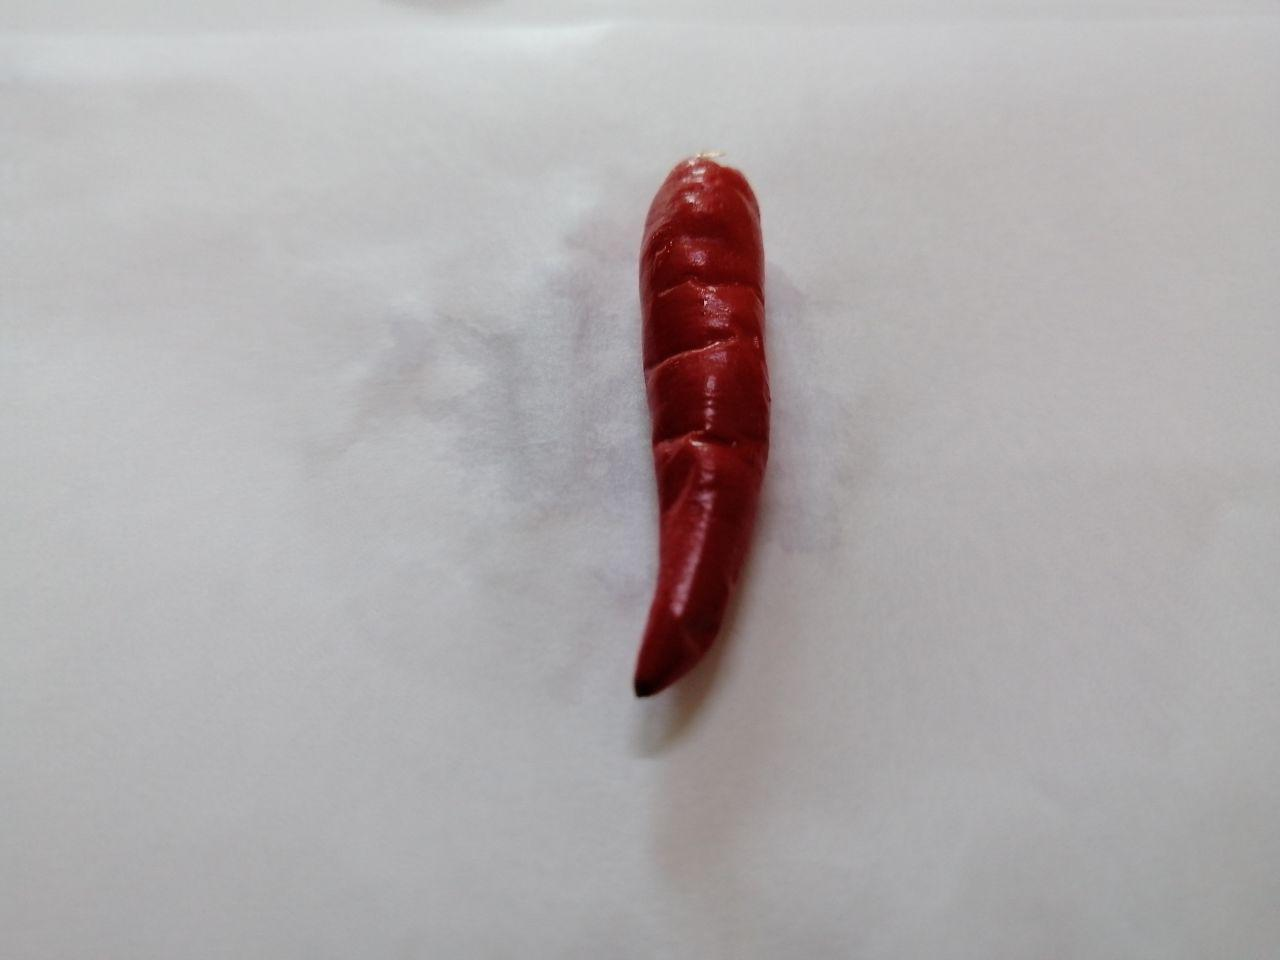lada merah: (580, 121, 803, 714)
